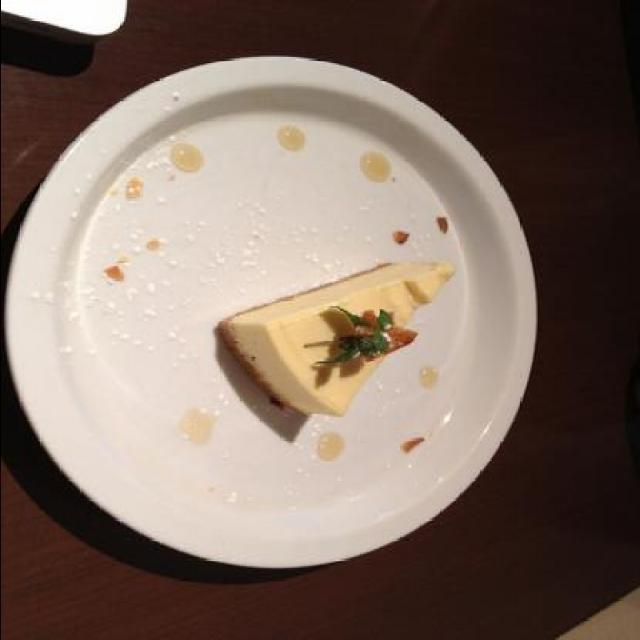Rare cheese cake: (192, 238, 472, 436)
